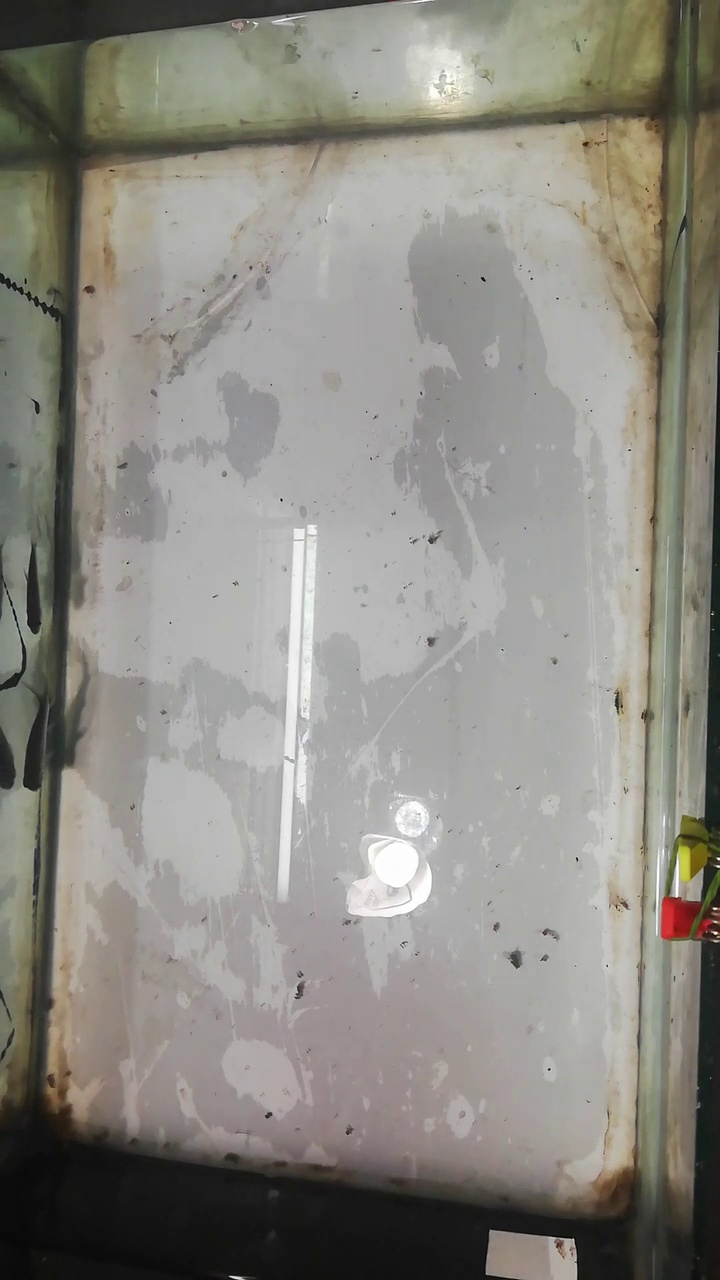fish1: (24, 684, 49, 795)
fish2: (23, 533, 47, 636)
